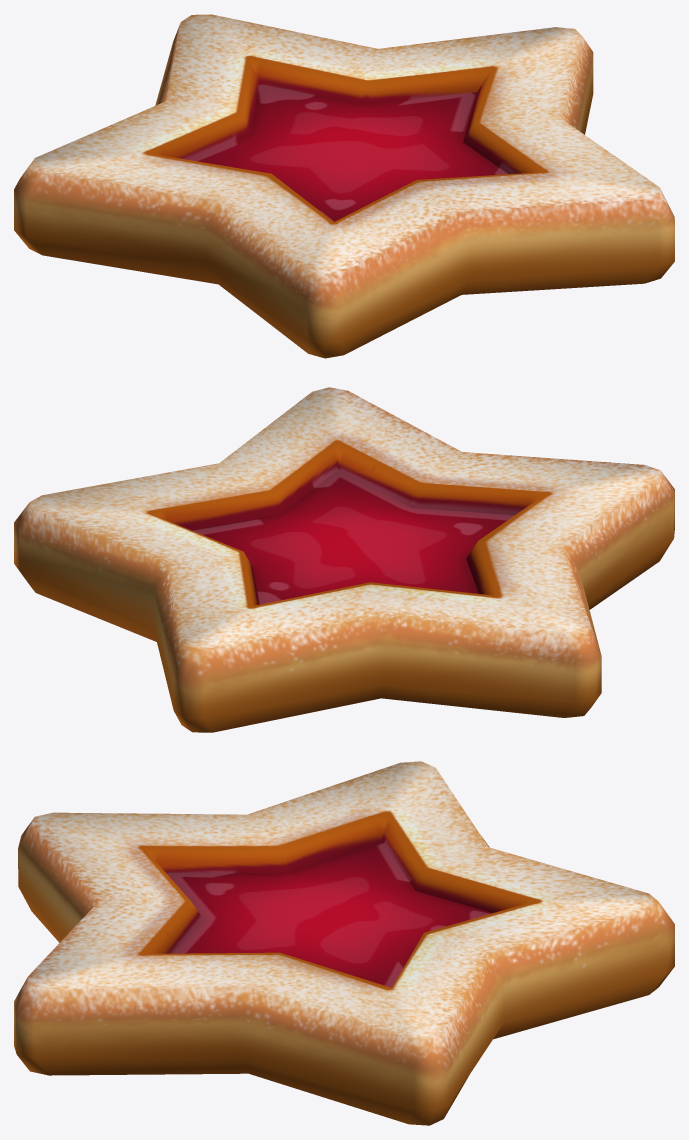
The model's file is Cookie_Star.fbx.
3 views of the same model, one above another, from view 1: azimuth 30°, elevation 25°; view 2: azimuth 150°, elevation 25°; view 3: azimuth 270°, elevation 25° (orthographic). The views are drawn at different scales.
Visible parts, largest first — view 1: Cookie_Star; view 2: Cookie_Star; view 3: Cookie_Star.
Part boxes in pixels (left/top/right/bottom): Cookie_Star: left=14, top=14, right=674, bottom=358; Cookie_Star: left=14, top=387, right=674, bottom=732; Cookie_Star: left=14, top=761, right=674, bottom=1125.
Bounding box in the file's own units: 35.2 × 4.83 × 33.71.
